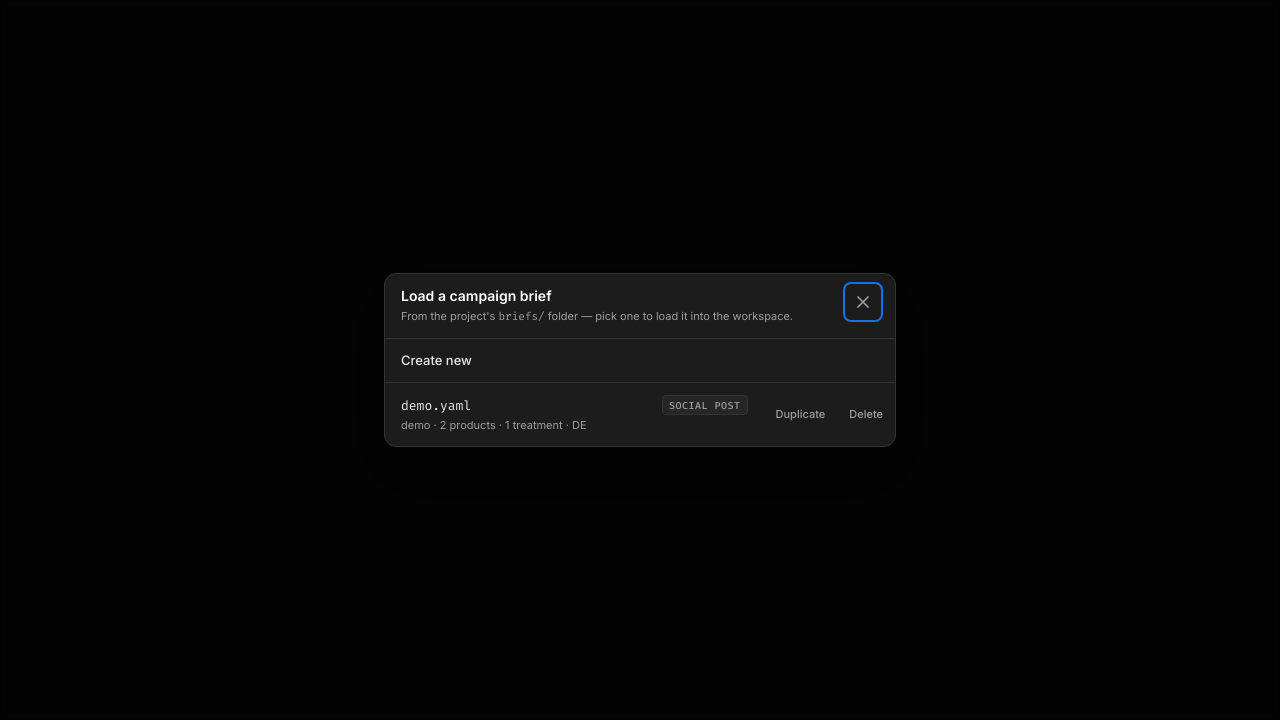
Test: BriefPicker create / duplicate › declining the guard on Duplicate performs no POST (D67)
expect the text "demo.yaml" is shown: met, box [401,396,471,415]
Click the button "Duplicate" at (800, 415), box [764,383,837,446]
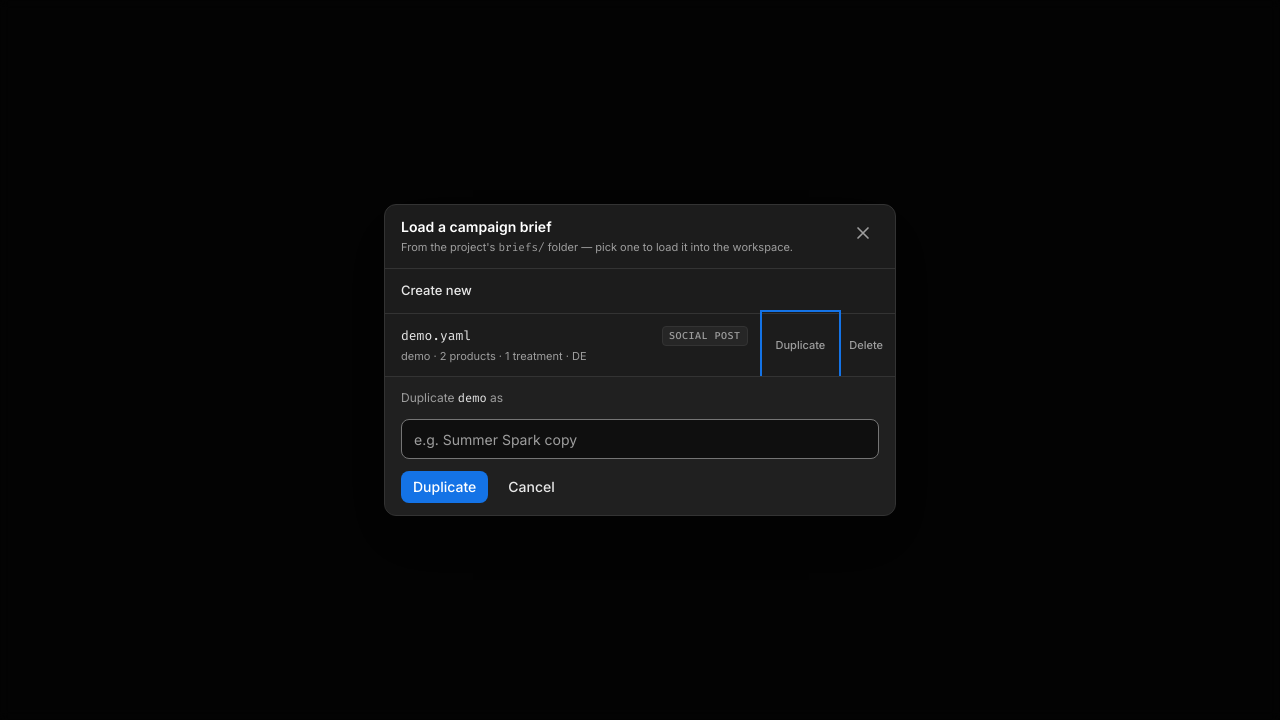
Type "Demo Copy" into the field named "New campaign name" at (640, 439), box [401,419,879,459]
Then press Enter
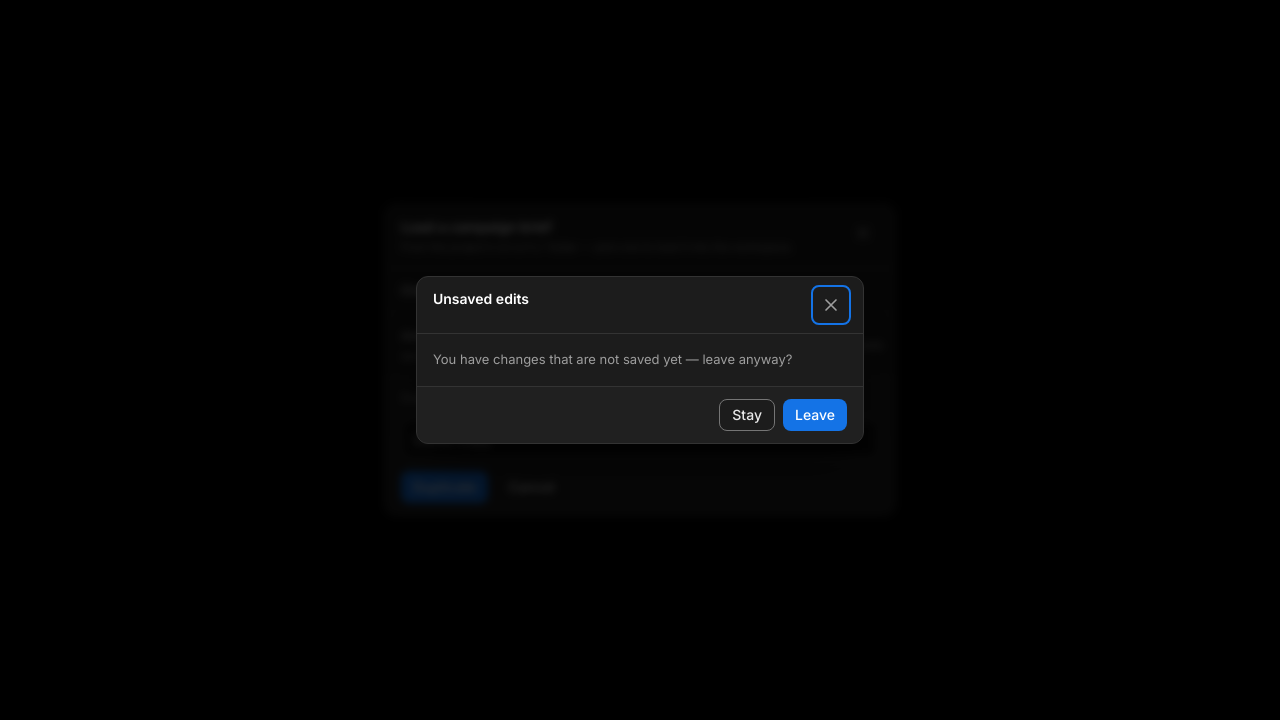
Click the button "Stay" at (747, 415), box [719,399,775,431]
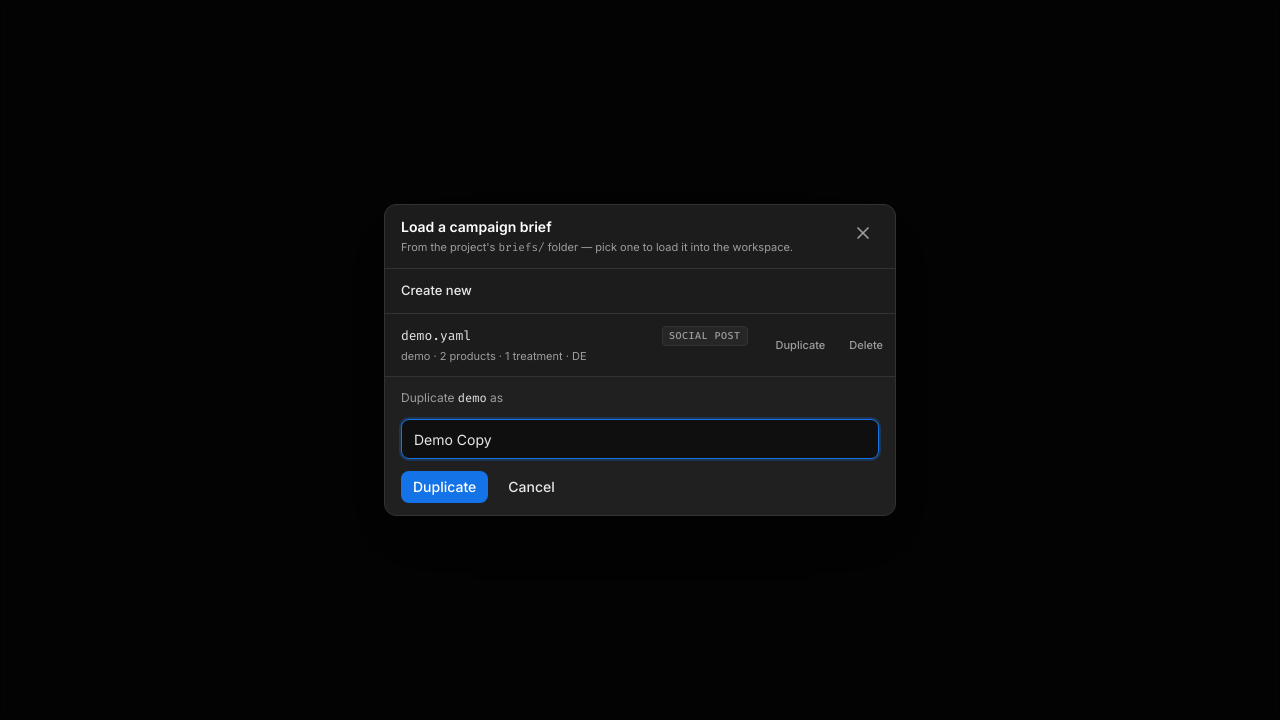
expect the heading "Unsaved edits" is gone: met
